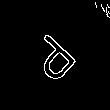P_SE: (22, 28, 84, 89)
